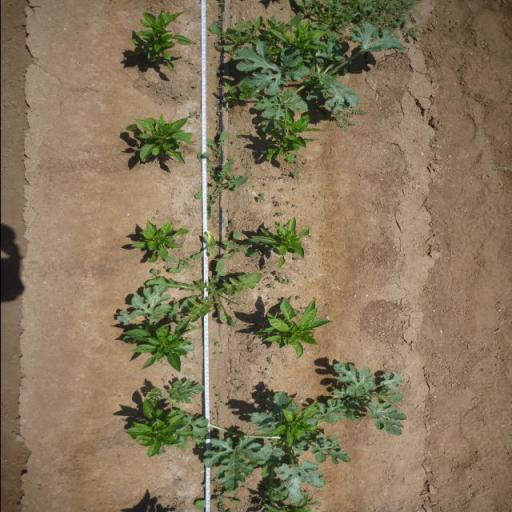plant: (251, 296, 335, 360), (129, 8, 193, 75), (121, 398, 189, 458), (123, 321, 198, 372), (124, 117, 194, 165), (261, 113, 325, 165), (255, 214, 309, 269), (127, 219, 190, 263), (269, 20, 323, 53), (275, 406, 314, 443)
weed: (144, 358, 411, 505), (226, 25, 409, 131), (143, 258, 262, 328), (192, 156, 247, 219), (114, 285, 173, 324), (207, 15, 263, 51), (312, 0, 370, 31), (370, 0, 426, 29), (194, 487, 246, 512), (219, 230, 259, 262), (164, 251, 205, 275), (334, 108, 368, 130), (202, 131, 230, 157), (224, 84, 257, 102), (204, 227, 218, 258), (273, 270, 294, 286), (201, 478, 218, 488), (188, 109, 200, 120), (255, 192, 266, 203), (150, 268, 160, 278), (224, 226, 232, 238), (272, 200, 282, 208), (293, 308, 303, 316), (213, 44, 223, 52), (156, 449, 166, 456), (291, 171, 299, 179), (262, 368, 270, 376), (264, 282, 274, 288), (212, 341, 220, 348), (273, 212, 284, 217), (294, 295, 301, 301), (266, 356, 272, 363), (216, 109, 222, 116), (213, 393, 221, 398), (225, 106, 231, 112), (172, 95, 178, 100), (285, 200, 290, 205), (226, 403, 232, 407), (191, 84, 196, 88)
